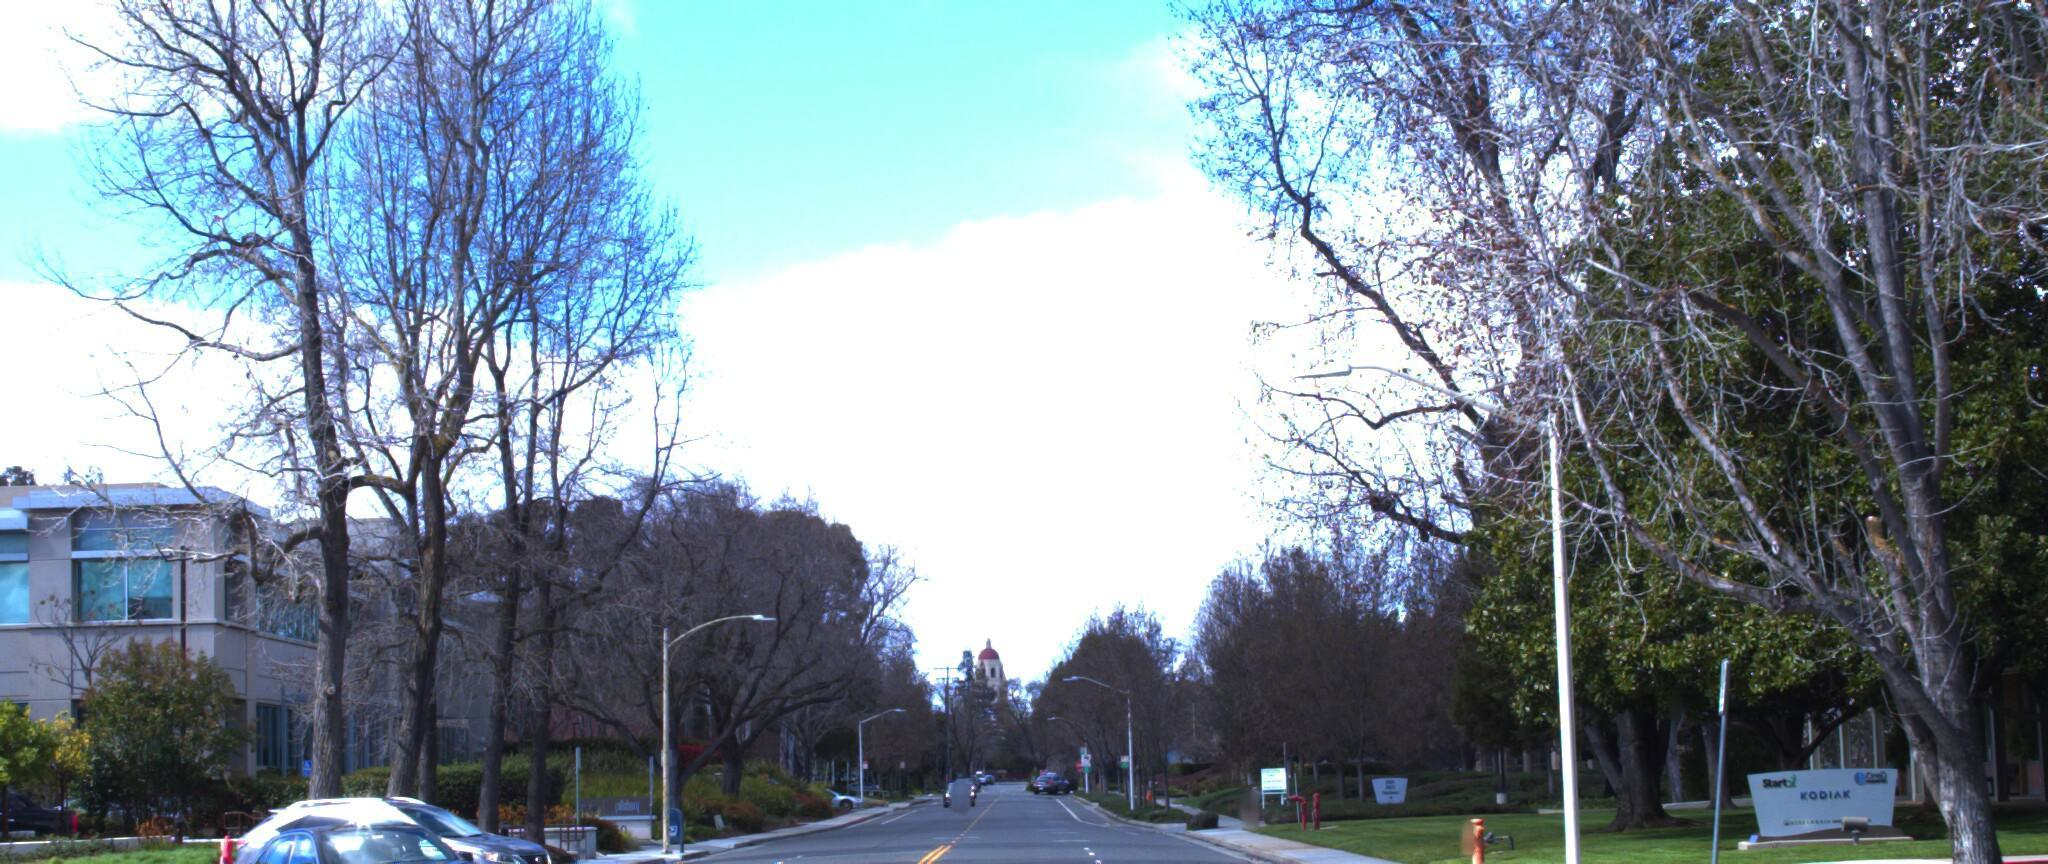car: (219, 783, 579, 864), (206, 807, 537, 864), (0, 847, 67, 864)
